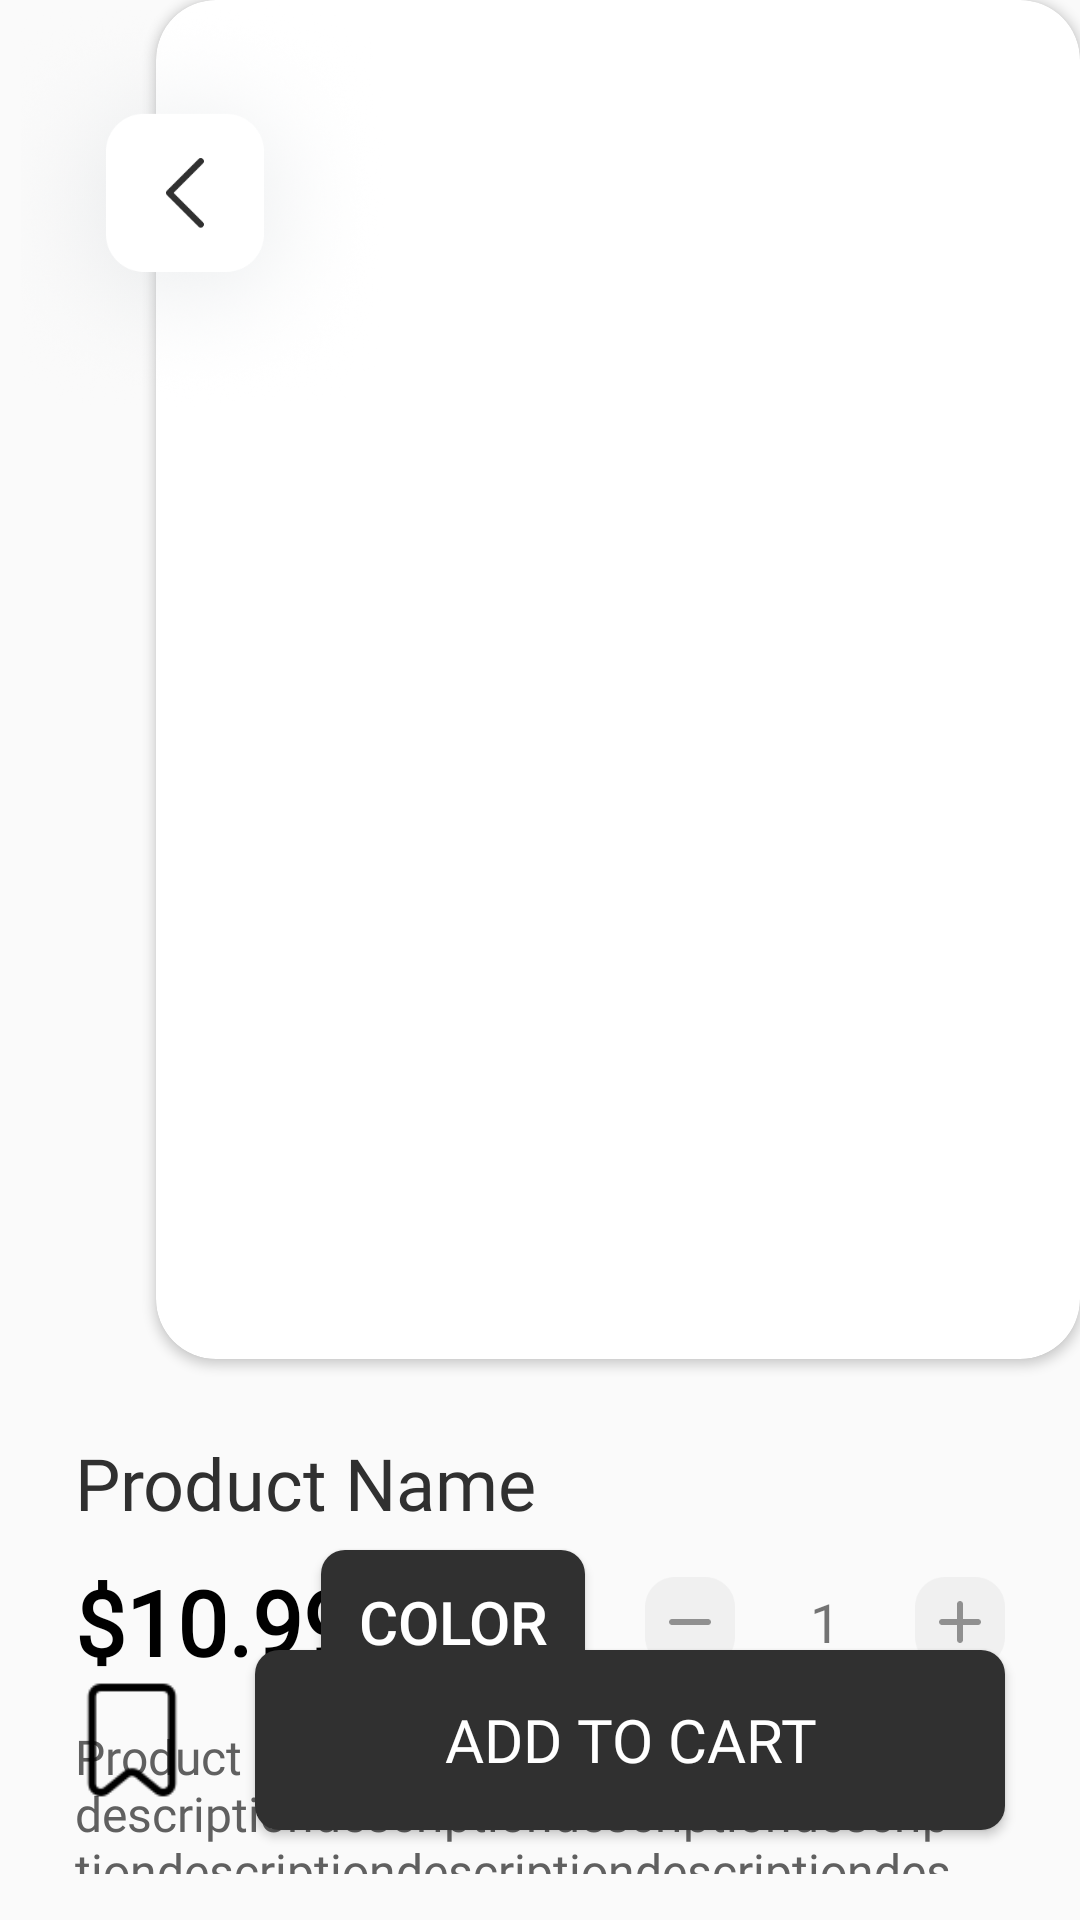

Named icons in this screenshot (1080*1920) and their centers, point (x, y):
Decrease Quantity: point (690, 1622)
plus: point (960, 1622)
